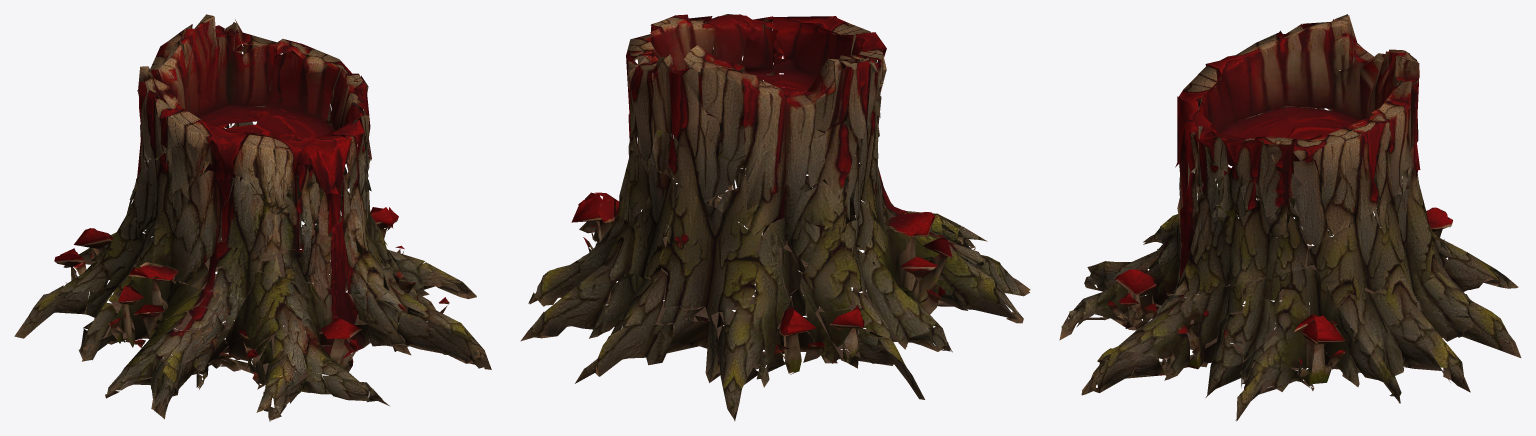
Rendered from SapWell.fbx.
3 renders of one model, left to right at view 1: azimuth 30°, elevation 25°; view 2: azimuth 150°, elevation 25°; view 3: azimuth 270°, elevation 25°, orthographic. The views are drawn at different scales.
Parts seen in each view (by area): view 1: SapWell_Body; view 2: SapWell_Body; view 3: SapWell_Body.
Part boxes in pixels (x1,y1,x2,y2): SapWell_Body: (14, 14, 491, 421); SapWell_Body: (520, 14, 1030, 421); SapWell_Body: (1059, 14, 1521, 421).
Size of the model in its own units: 1.49 by 1 by 1.5.
Materials: 1 (1 with a texture image).
